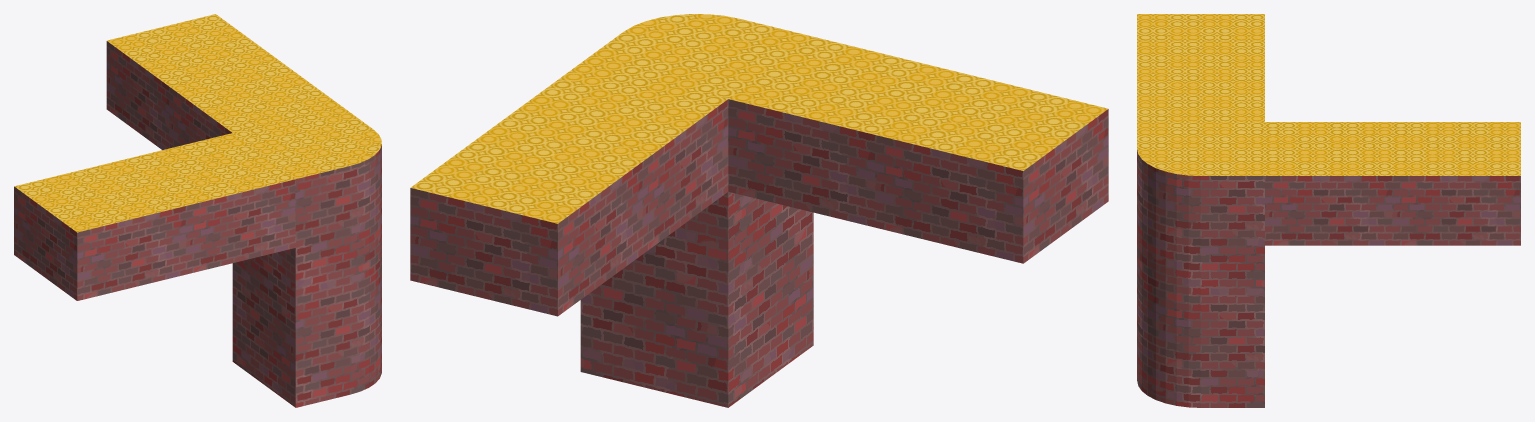
Rendered from arch_curve.gltf.
The picture shows the model from 3 angles, left to right: view 1: azimuth 30°, elevation 25°; view 2: azimuth 150°, elevation 25°; view 3: azimuth 270°, elevation 25°; orthographic projection. The views are drawn at different scales.
Visible parts, largest first — view 1: Cylinder; view 2: Cylinder; view 3: Cylinder.
Part boxes in pixels (x1,y1,x2,y2): Cylinder: (14, 14, 381, 407); Cylinder: (410, 14, 1108, 407); Cylinder: (1137, 14, 1520, 407).
Bounding box in the file's own units: 6 × 4 × 6.
2 materials, 2 textured.
